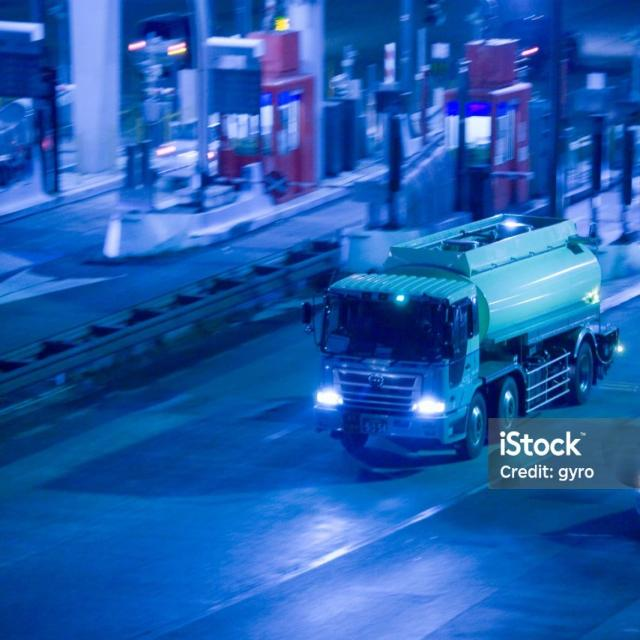truck: (300, 212, 620, 463)
